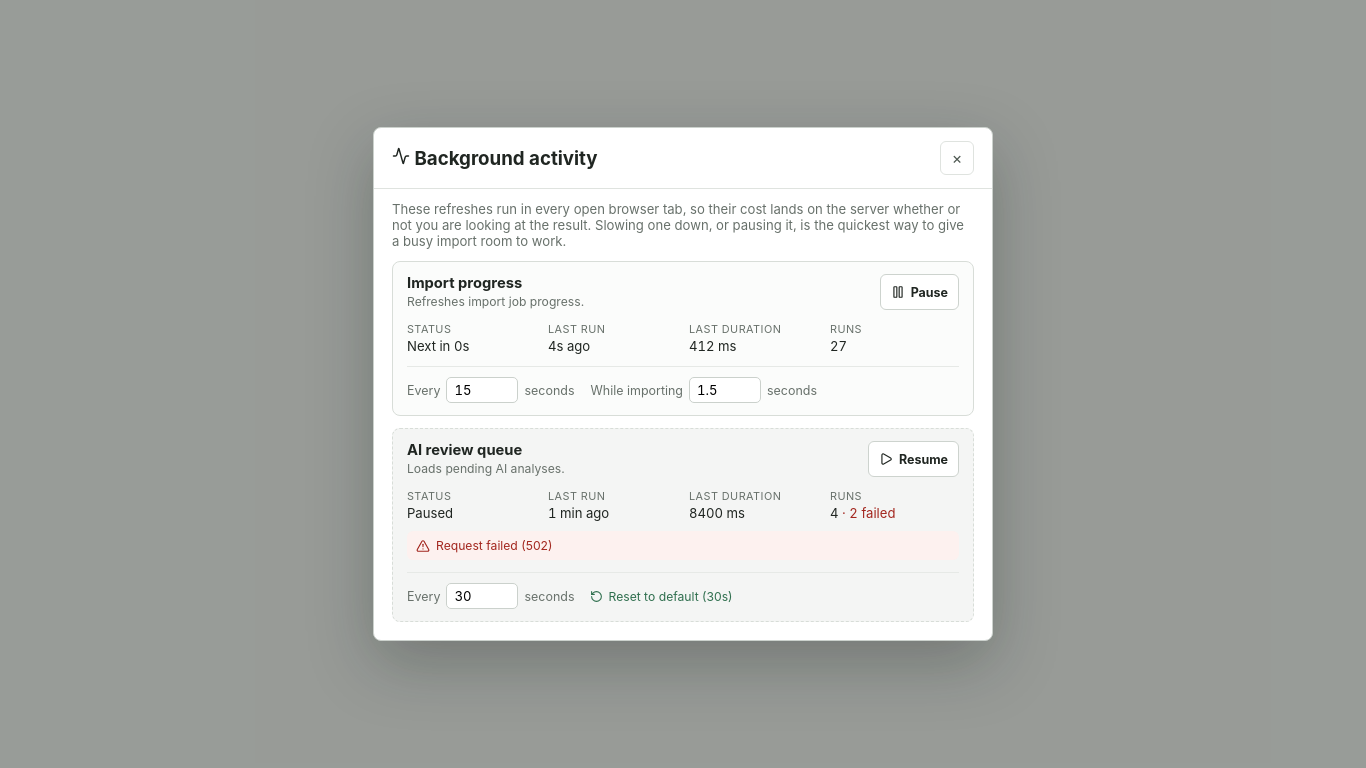
Test: BackgroundActivityDialog › surfaces a rejected save instead of failing silently
What coordinates should you click on to do the following:
click the button with aria-label "Pause Import progress"
I would click on:
 (919, 292)
Its box is top-left (880, 274), bottom-right (959, 310).
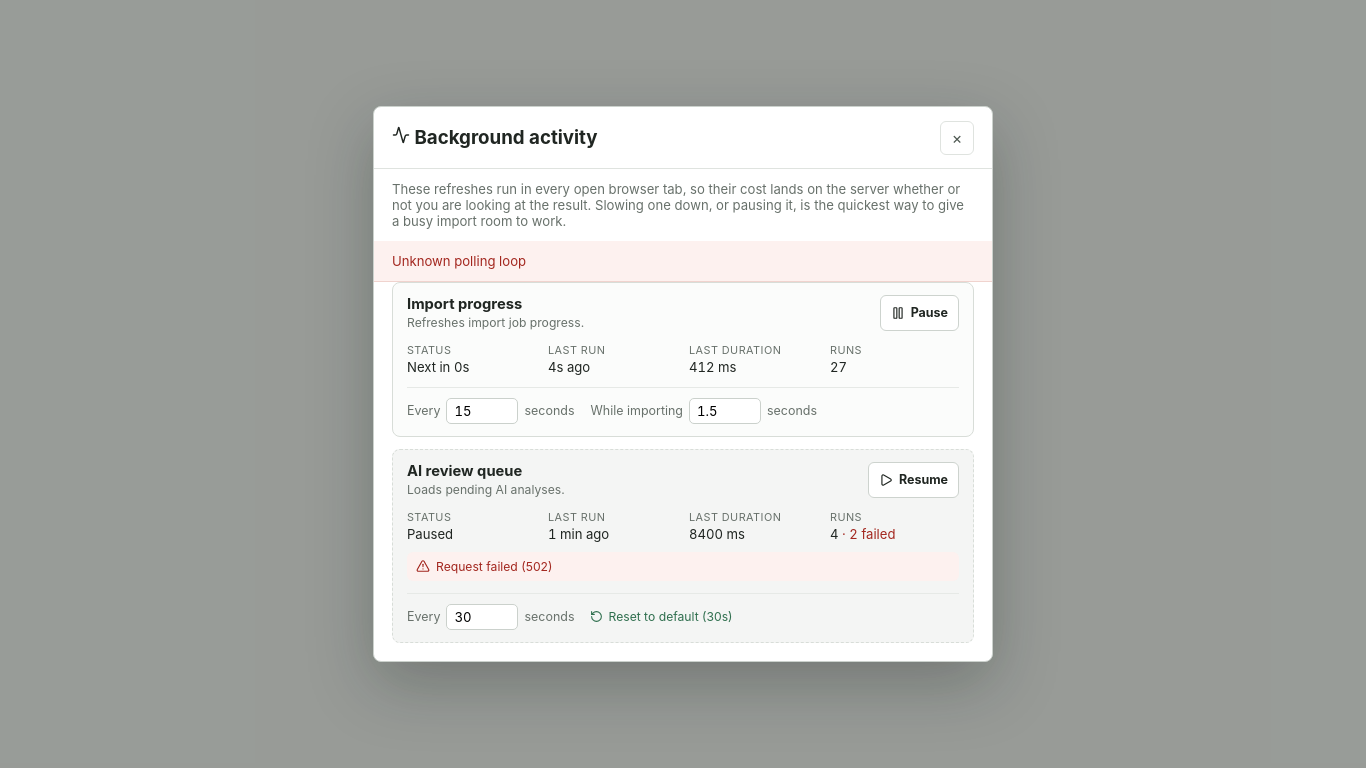
Now the message reads "Unknown polling loop", box top-left (392, 253), bottom-right (526, 269)
